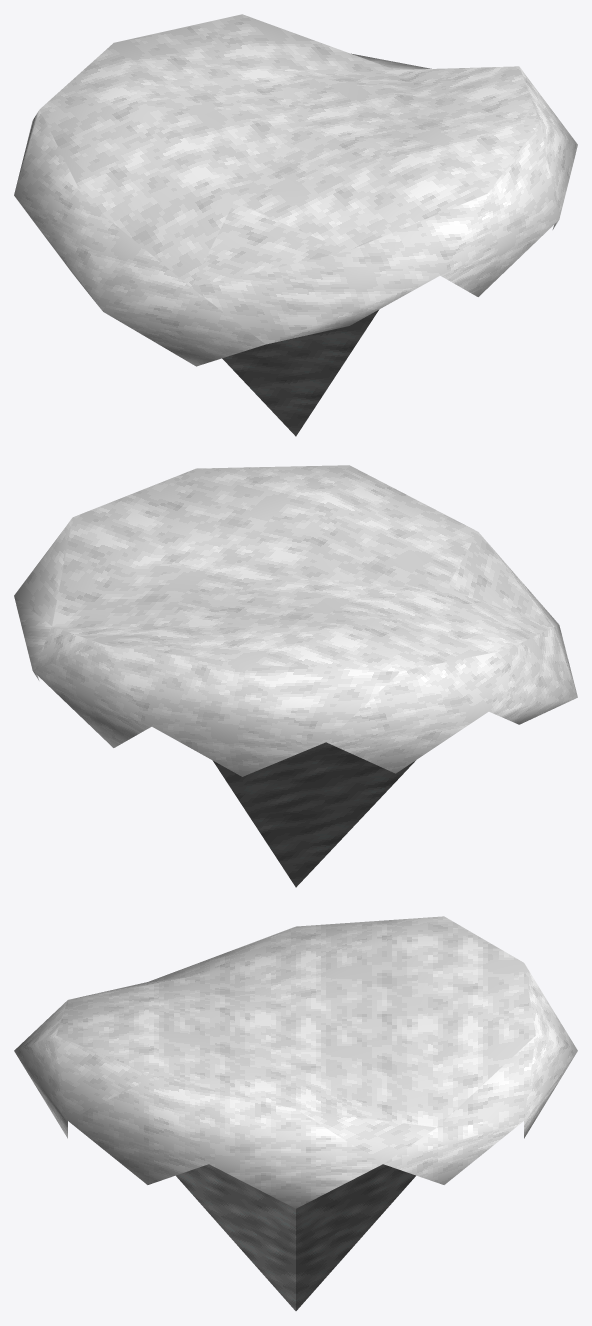
The model's file is starbase.gltf.
3 views of the same model, one above another, from view 1: azimuth 30°, elevation 25°; view 2: azimuth 150°, elevation 25°; view 3: azimuth 270°, elevation 25° (orthographic). The views are drawn at different scales.
Visible parts, largest first — view 1: Icosphere.005; view 2: Icosphere.005; view 3: Icosphere.005.
Boxes of the visible parts, x1,y1,x2,y2 form: Icosphere.005: (14,14,577,436); Icosphere.005: (14,465,577,887); Icosphere.005: (14,916,577,1310).
Bounding box in the file's own units: 21.65 × 14.14 × 22.76.
Materials: 2 (2 with a texture image).
